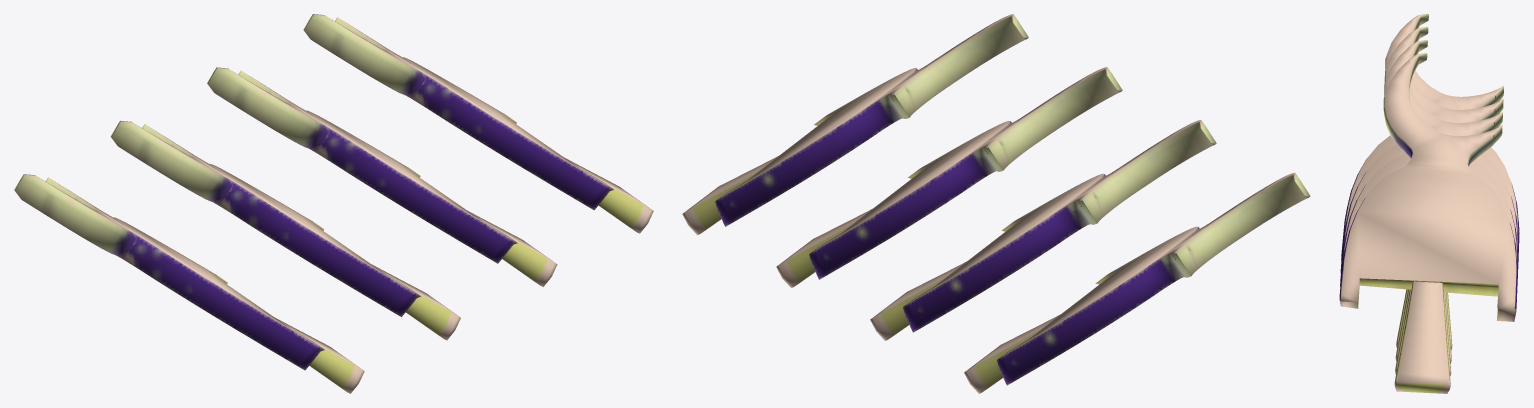
The model's file is Lunar_cortado.fbx.
3 views of the same model, side by side, from view 1: azimuth 30°, elevation 25°; view 2: azimuth 150°, elevation 25°; view 3: azimuth 270°, elevation 25° (orthographic). The views are drawn at different scales.
Visible parts, largest first — view 1: Lunar_Cortado; view 2: Lunar_Cortado; view 3: Lunar_Cortado.
Boxes of the visible parts, <box> form: Lunar_Cortado: <box>14,14,653,393</box>; Lunar_Cortado: <box>682,14,1310,393</box>; Lunar_Cortado: <box>1339,14,1519,393</box>.
Bounding box in the file's own units: 270 × 156 × 86.31.
